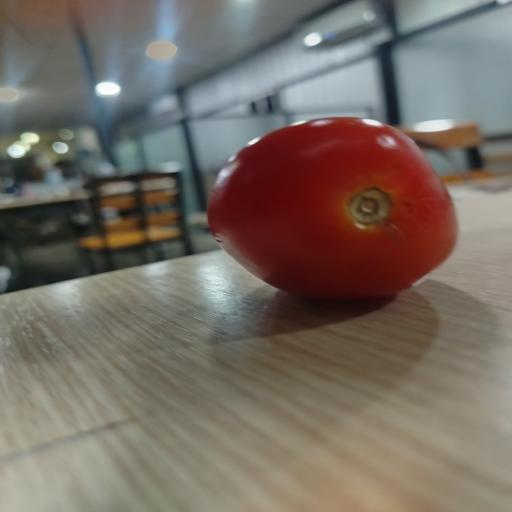overipe: (208, 117, 457, 299)
